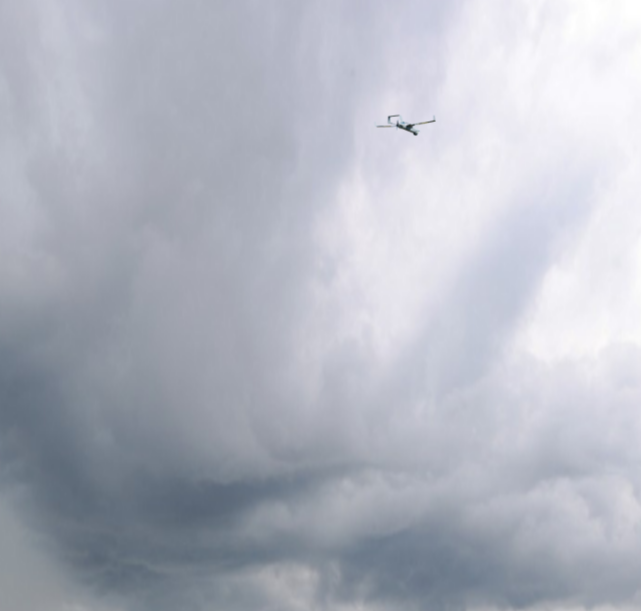military drone: (375, 113, 436, 135)
